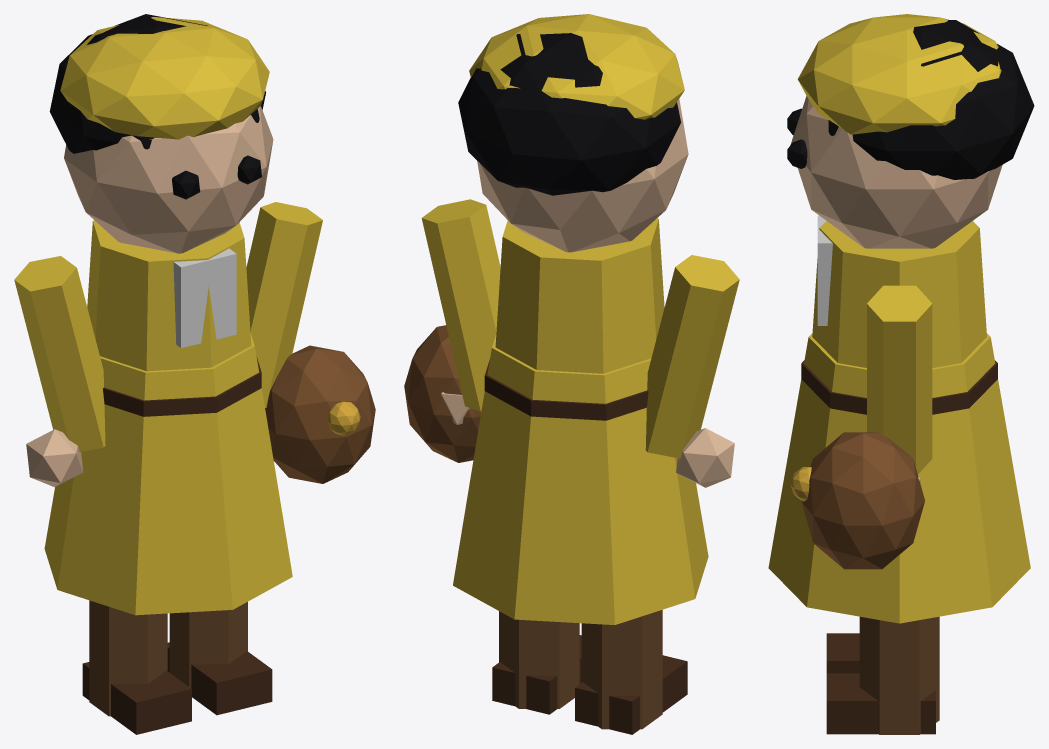
File: SM_GZ_npc_merchant.fbx
3 renders of one model, left to right at view 1: azimuth 30°, elevation 25°; view 2: azimuth 150°, elevation 25°; view 3: azimuth 270°, elevation 25°, orthographic. The views are drawn at different scales.
Visible parts, largest first — view 1: SM_GZ_npc_merchant; view 2: SM_GZ_npc_merchant; view 3: SM_GZ_npc_merchant.
Part boxes in pixels (x1=…): SM_GZ_npc_merchant: x1=14, y1=14, x2=375, y2=734; SM_GZ_npc_merchant: x1=404, y1=14, x2=739, y2=734; SM_GZ_npc_merchant: x1=768, y1=14, x2=1034, y2=734.
Size of the model in its own units: 106 by 203 by 73.
